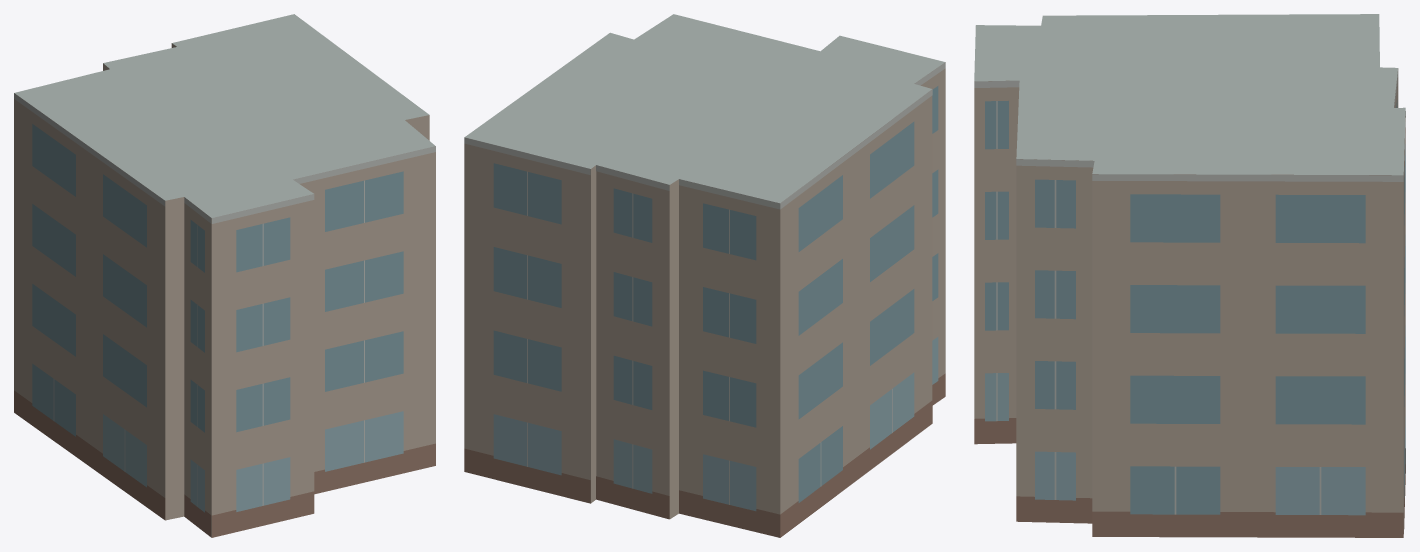
File: survey-upis-32690747.glb
3 views of the same model, side by side, from view 1: azimuth 30°, elevation 25°; view 2: azimuth 150°, elevation 25°; view 3: azimuth 270°, elevation 25° (orthographic). The views are drawn at different scales.
Parts seen in each view (by area): view 1: survey-upis-32690747.tmp; view 2: survey-upis-32690747.tmp; view 3: survey-upis-32690747.tmp.
Boxes of the visible parts, x1,y1,x2,y2 form: survey-upis-32690747.tmp: (14, 14, 435, 537); survey-upis-32690747.tmp: (464, 14, 945, 537); survey-upis-32690747.tmp: (974, 14, 1405, 537).
Size of the model in its own units: 12.54 by 13.15 by 14.19.
